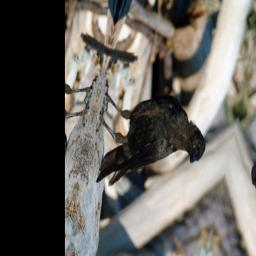Crow: (83, 68, 215, 224)
